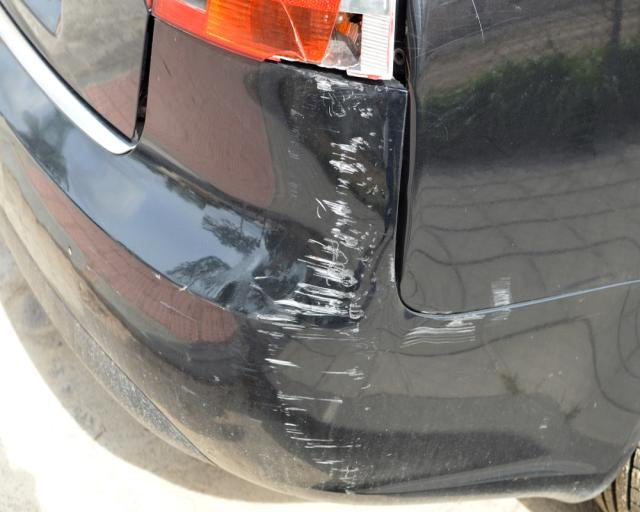lamp broken: (153, 0, 396, 83)
scratch: (254, 75, 514, 493), (490, 274, 516, 309)
